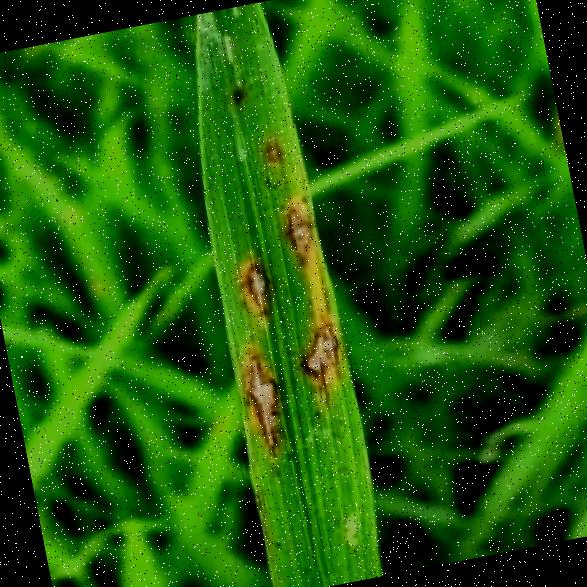Leaf_smut: (173, 69, 393, 587)
